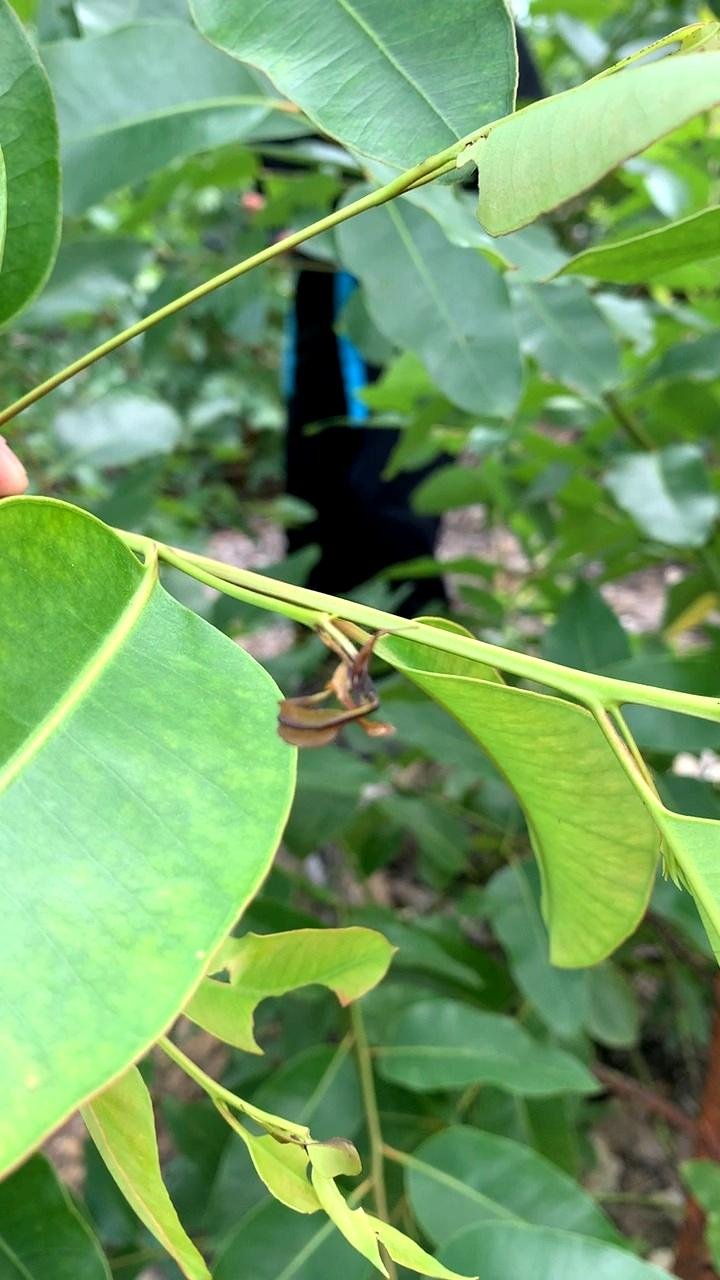Helopeltis-Withered Sprout: (290, 613, 401, 755)
